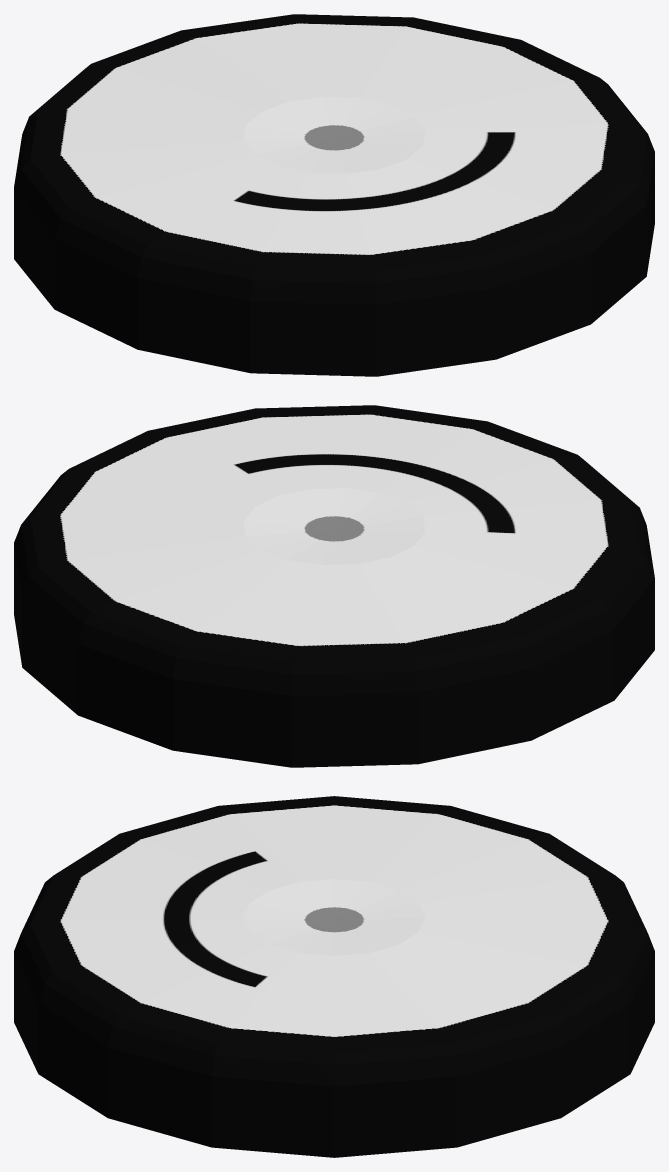
The model's file is Roomba.fbx.
3 views of the same model, one above another, from view 1: azimuth 30°, elevation 25°; view 2: azimuth 150°, elevation 25°; view 3: azimuth 270°, elevation 25° (orthographic).
Visible parts, largest first — view 1: Cylinder; view 2: Cylinder; view 3: Cylinder.
Part boxes in pixels (left/top/right/bottom): Cylinder: left=14, top=14, right=654, bottom=376; Cylinder: left=14, top=405, right=654, bottom=767; Cylinder: left=14, top=796, right=654, bottom=1157.
Size of the model in its own units: 200 by 36.13 by 200.
